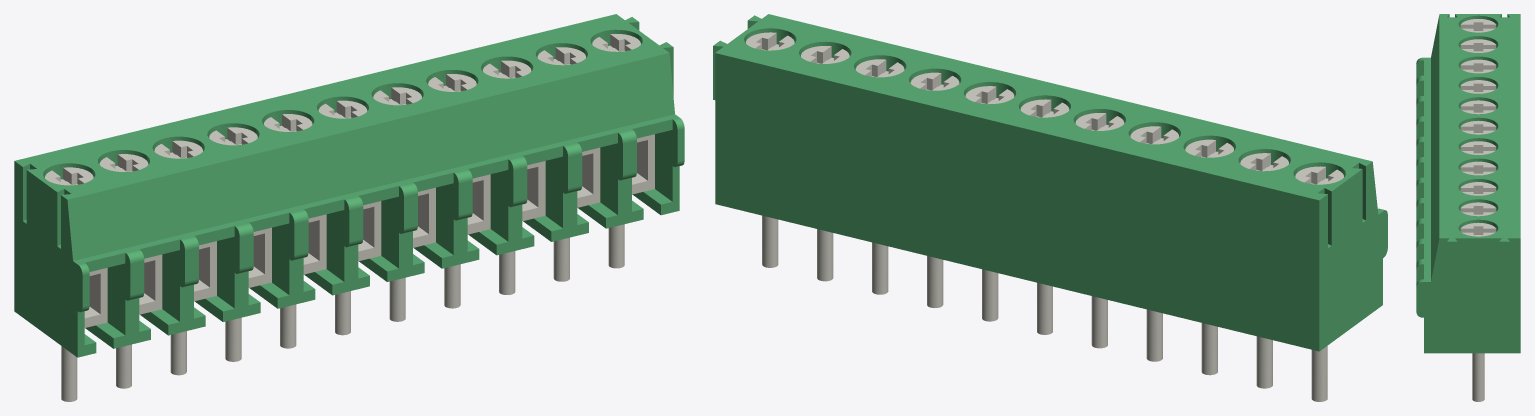
File: kc-terminalblock_phoenix_pt-1_5-11-3.5-h_1x11_p3.50mm_horizontal.glb
The picture shows the model from 3 angles, left to right: view 1: azimuth 30°, elevation 25°; view 2: azimuth 150°, elevation 25°; view 3: azimuth 270°, elevation 25°; orthographic projection. The views are drawn at different scales.
Visible parts, largest first — view 1: 0.08333333333333333_0.4166666666666667_0.16666666666666666_0, 0.6666666666666666_0.6666666666666666_0.5833333333333334_0.8; view 2: 0.08333333333333333_0.4166666666666667_0.16666666666666666_0, 0.6666666666666666_0.6666666666666666_0.5833333333333334_0.8; view 3: 0.08333333333333333_0.4166666666666667_0.16666666666666666_0, 0.6666666666666666_0.6666666666666666_0.5833333333333334_0.8.
Part boxes in pixels (x1,y1,x2,y2): 0.08333333333333333_0.4166666666666667_0.16666666666666666_0: (14, 14, 684, 357); 0.6666666666666666_0.6666666666666666_0.5833333333333334_0.8: (45, 34, 654, 401); 0.08333333333333333_0.4166666666666667_0.16666666666666666_0: (713, 14, 1387, 351); 0.6666666666666666_0.6666666666666666_0.5833333333333334_0.8: (746, 32, 1343, 401); 0.08333333333333333_0.4166666666666667_0.16666666666666666_0: (1416, 14, 1520, 353); 0.6666666666666666_0.6666666666666666_0.5833333333333334_0.8: (1460, 19, 1496, 401).
Size of the model in its own units: 3.91 by 1.37 by 0.755.
